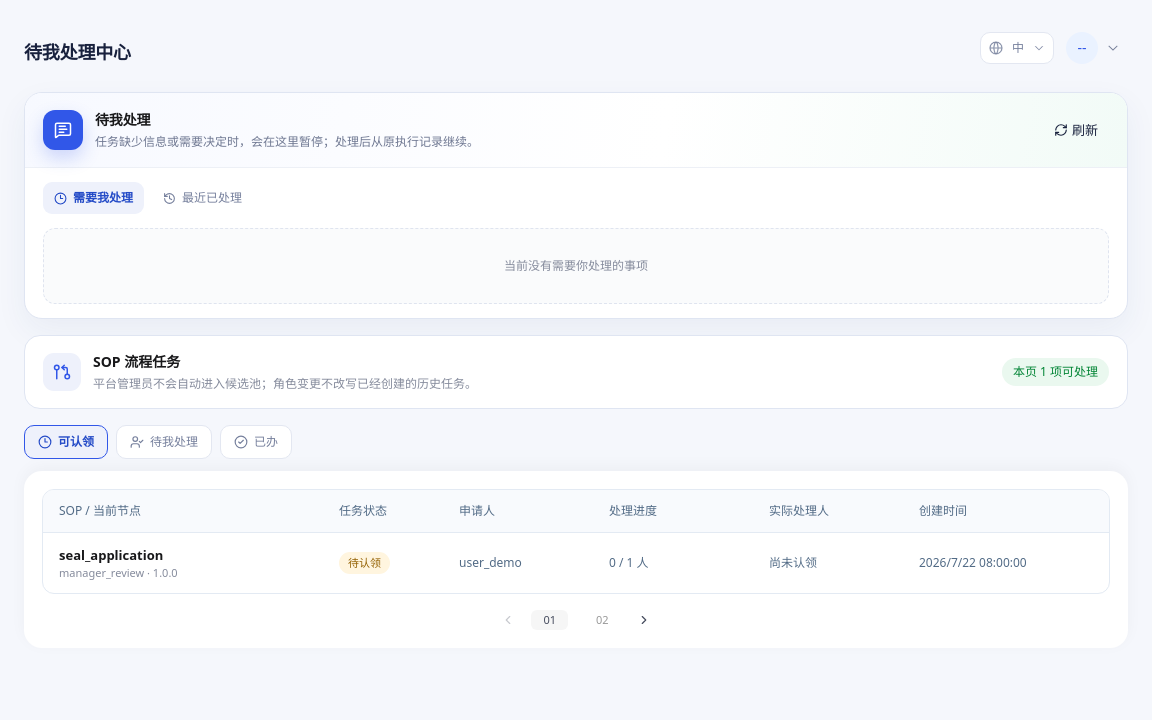
任务箱切页时只请求对应的服务端页
The width and height of the screenshot is (1152, 720).
Check: the text "seal_application" is shown, box top-left (59, 545), bottom-right (178, 565)
Click the button named "下一页": [644, 620] box top-left (637, 613), bottom-right (651, 627)
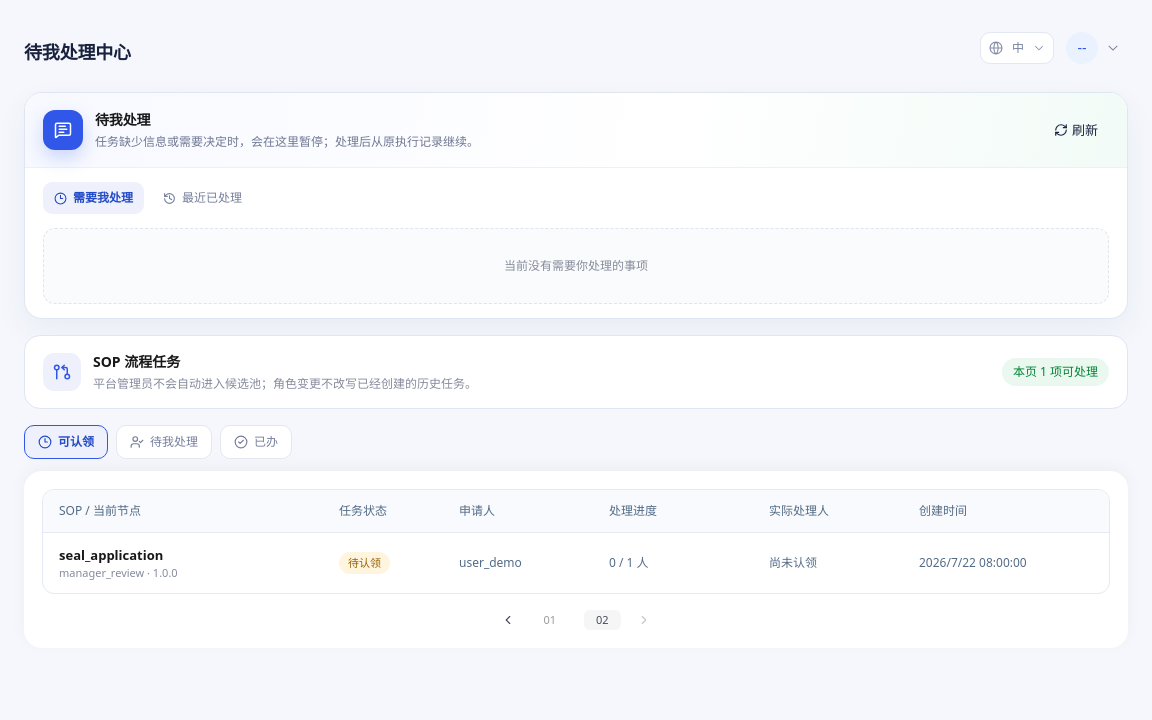
Check: the button named "上一页" is enabled, box top-left (501, 613), bottom-right (515, 627)
